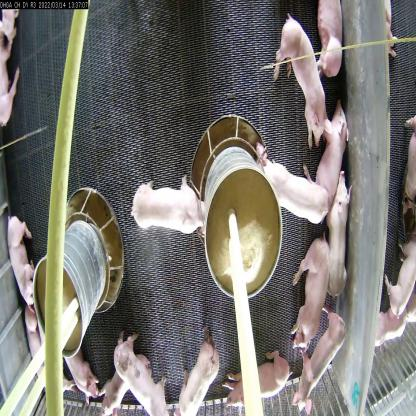Pig: (273, 11, 327, 151), (256, 140, 333, 230), (295, 307, 346, 415), (304, 98, 350, 215), (129, 172, 207, 241), (221, 342, 292, 414), (114, 334, 174, 416), (291, 233, 330, 356), (24, 309, 73, 402), (321, 171, 353, 300), (4, 205, 41, 316), (174, 330, 220, 416), (95, 353, 151, 415), (384, 223, 416, 320), (221, 363, 290, 407), (63, 341, 98, 402), (317, 1, 344, 79)
